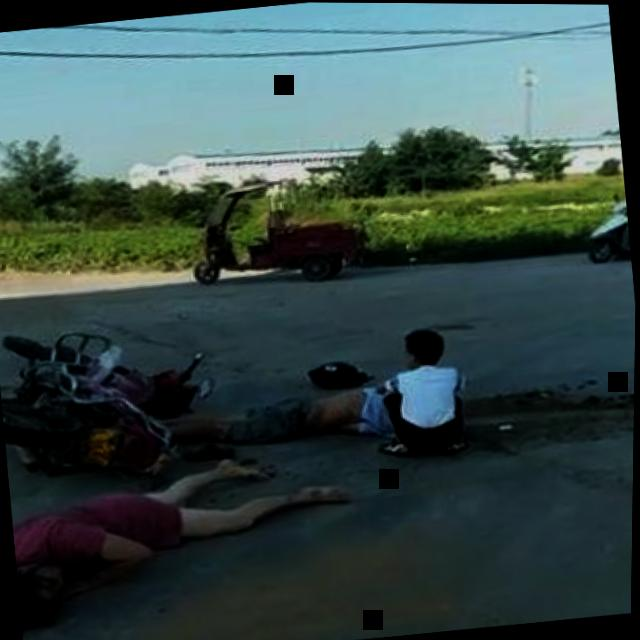Fall-Detected: (7, 434, 361, 640)
